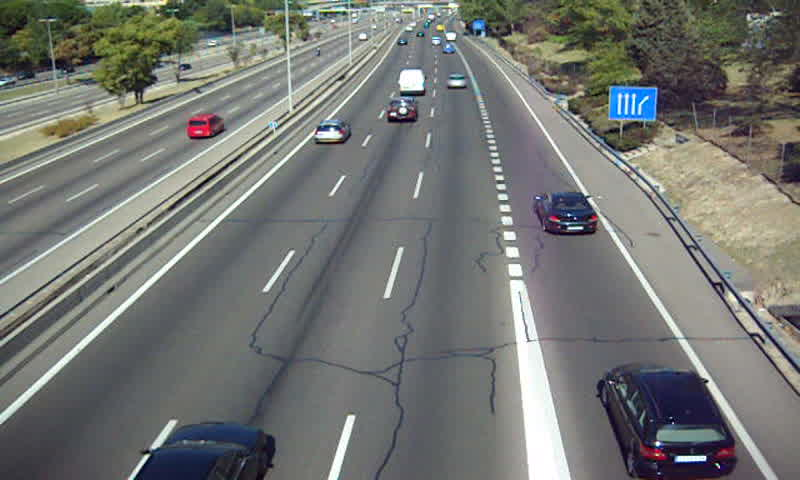car: (603, 362, 738, 479), (539, 194, 597, 235), (313, 118, 349, 144), (386, 96, 418, 122), (445, 73, 468, 90)
van: (399, 69, 426, 93)
